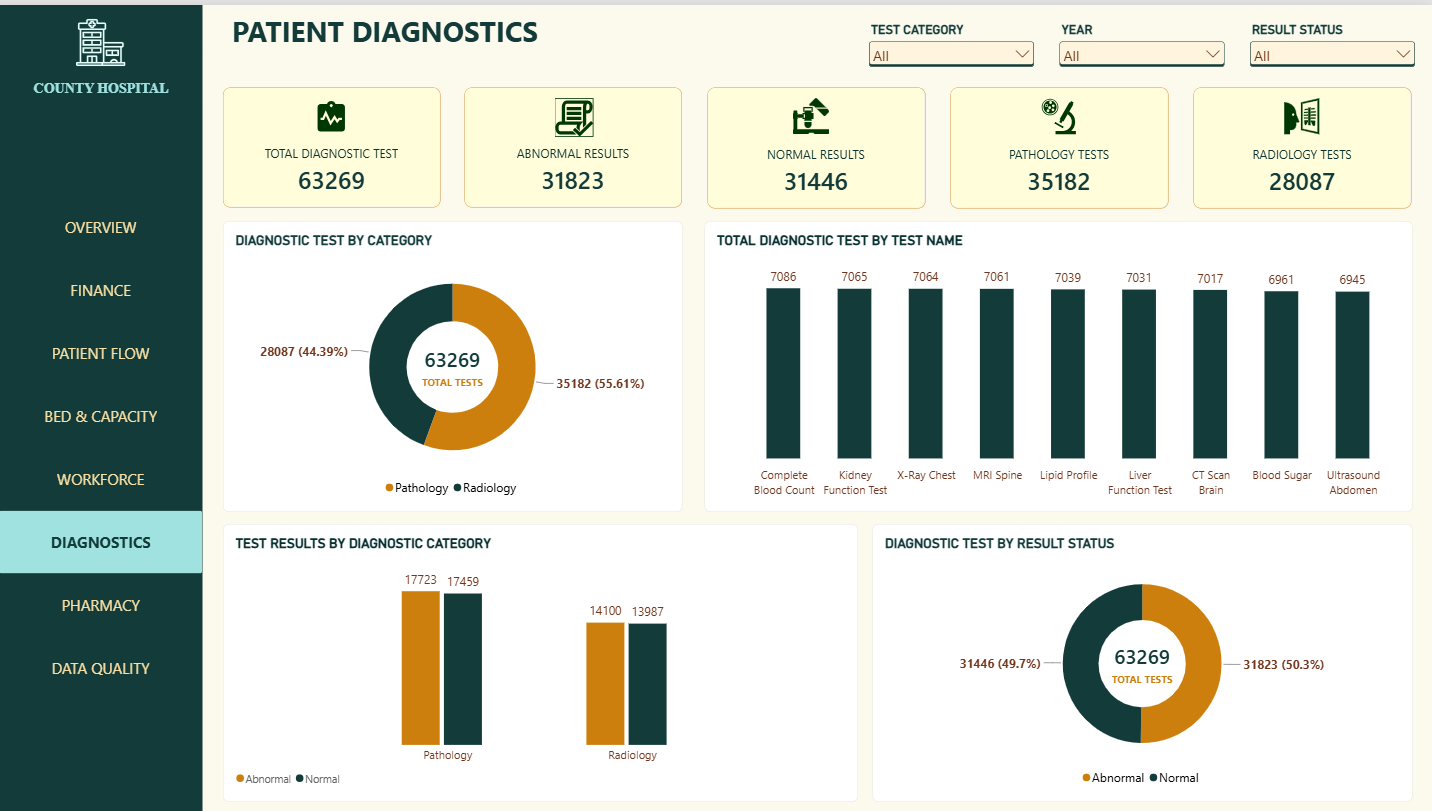

Layout of this report page (visuals, bound fields, positions):
{"tool":"powerbi","page":{"name":"DIAGNOSTICS","canvas":[1920,1080],"ordinal":5},"visuals":[{"type":"shape","box":[9.8,0,270.8,1080.8],"z":0,"group":"g6"},{"type":"image","box":[112.3,0,65.9,100],"z":0,"group":"g2"},{"type":"textbox","box":[280.6,0,788.1,78.1],"z":0},{"type":"cardVisual","fields":{"Data":["DateTable.TOTAL DIAGNOSTIC TEST"]},"box":[307.4,109.8,290,160],"z":0,"group":"g4"},{"type":"textbox","box":[9.8,100,270.8,63.4],"z":1000,"group":"g2"},{"type":"group","id":"g1","title":"Group 3","box":[1278.5,109.8,290.3,161],"z":1000},{"type":"image","box":[428.2,124.4,48.8,48.8],"z":1000,"group":"g4"},{"type":"pageNavigator","box":[9.8,253.7,270.8,673.4],"z":1000,"group":"g6"},{"type":"group","id":"g2","title":"Group 1","box":[9.8,0,270.8,163.5],"z":2000,"group":"g6"},{"type":"cardVisual","fields":{"Data":["DateTable.NORMAL RESULTS"]},"box":[954,109.8,290.3,161],"z":2000},{"type":"cardVisual","fields":{"Data":["DateTable.PATHOLOGY TESTS"]},"box":[1278.5,109.8,290.3,161],"z":2000,"group":"g1"},{"type":"group","id":"g3","title":"Group 5","box":[1603,109.8,290.3,161],"z":3000},{"type":"group","id":"g4","title":"Group 6","box":[307.4,109.8,287.9,161],"z":4000},{"type":"cardVisual","fields":{"Data":["DateTable.RADIOLOGY TESTS"]},"box":[1603,109.8,290.3,161],"z":4000,"group":"g3"},{"type":"group","id":"g5","title":"Group 1","box":[629.5,109.8,290,160],"z":5000},{"type":"image","box":[1398,124.4,48.8,48.8],"z":6000},{"type":"image","box":[749,124.4,52,52],"z":7000},{"type":"image","box":[1068.6,124.4,48,48],"z":8000},{"type":"cardVisual","fields":{"Data":["DateTable.ABNORMAL RESULTS"]},"box":[629.5,109.8,290,160],"z":9000,"group":"g5"},{"type":"image","box":[1722.5,124.4,48.8,48.8],"z":9000},{"type":"donutChart","title":"DIAGNOSTIC TEST BY CATEGORY","fields":{"Category":["hospital_operations_analysis diagnostic_test.test_category"],"Y":["DateTable.TOTAL DIAGNOSTIC TEST"]},"box":[307.4,287.9,612.4,387.9],"z":10000},{"type":"donutChart","title":"DIAGNOSTIC TEST BY RESULT STATUS","fields":{"Category":["hospital_operations_analysis patient_diagnostic.result_status"],"Y":["DateTable.TOTAL DIAGNOSTIC TEST"]},"box":[1173.6,692.9,719.7,370.9],"z":11000},{"type":"clusteredColumnChart","title":"TOTAL DIAGNOSTIC TEST BY TEST NAME","fields":{"Category":["hospital_operations_analysis diagnostic_test.test_name"],"Y":["DateTable.TOTAL DIAGNOSTIC TEST"]},"box":[949.1,287.9,944.2,387.9],"z":12000},{"type":"clusteredColumnChart","title":"TEST RESULTS BY DIAGNOSTIC CATEGORY","fields":{"Category":["hospital_operations_analysis diagnostic_test.test_category"],"Series":["hospital_operations_analysis patient_diagnostic.result_status"],"Y":["DateTable.TOTAL DIAGNOSTIC TEST"]},"box":[307.4,692.9,846.6,370.9],"z":13000},{"type":"group","id":"g6","title":"Group 2","box":[9.8,0,270.8,1080.8],"z":14000},{"type":"slicer","fields":{"Values":["hospital_operations_analysis diagnostic_test.test_category"]},"box":[1163.8,22,230,78.1],"z":17000},{"type":"slicer","fields":{"Values":["DateTable.Year"]},"box":[1417.5,22,230,78.1],"z":18000},{"type":"slicer","fields":{"Values":["hospital_operations_analysis patient_diagnostic.result_status"]},"box":[1671.3,22,230,78.1],"z":19000}]}

Visuals, with their boxes in screenshot pixels (x1, y1, x2, y2), scaled from the page's 1920x1080 canvas onto the 1432x811 screenshot:
shape: [7, 0, 209, 810]
image: [84, 0, 133, 75]
textbox: [209, 0, 797, 59]
cardVisual - DateTable.TOTAL DIAGNOSTIC TEST: [229, 82, 446, 203]
textbox: [7, 75, 209, 123]
"Group 3" group: [954, 82, 1170, 203]
image: [319, 93, 356, 130]
pageNavigator: [7, 191, 209, 696]
"Group 1" group: [7, 0, 209, 123]
cardVisual - DateTable.NORMAL RESULTS: [712, 82, 928, 203]
cardVisual - DateTable.PATHOLOGY TESTS: [954, 82, 1170, 203]
"Group 5" group: [1196, 82, 1412, 203]
"Group 6" group: [229, 82, 444, 203]
cardVisual - DateTable.RADIOLOGY TESTS: [1196, 82, 1412, 203]
"Group 1" group: [470, 82, 686, 203]
image: [1043, 93, 1079, 130]
image: [559, 93, 597, 132]
image: [797, 93, 833, 129]
cardVisual - DateTable.ABNORMAL RESULTS: [470, 82, 686, 203]
image: [1285, 93, 1321, 130]
"DIAGNOSTIC TEST BY CATEGORY" donutChart: [229, 216, 686, 507]
"DIAGNOSTIC TEST BY RESULT STATUS" donutChart: [875, 520, 1412, 799]
"TOTAL DIAGNOSTIC TEST BY TEST NAME" clusteredColumnChart: [708, 216, 1412, 507]
"TEST RESULTS BY DIAGNOSTIC CATEGORY" clusteredColumnChart: [229, 520, 861, 799]
"Group 2" group: [7, 0, 209, 810]
slicer - hospital_operations_analysis diagnostic_test.test_category: [868, 17, 1040, 75]
slicer - DateTable.Year: [1057, 17, 1229, 75]
slicer - hospital_operations_analysis patient_diagnostic.result_status: [1247, 17, 1418, 75]
